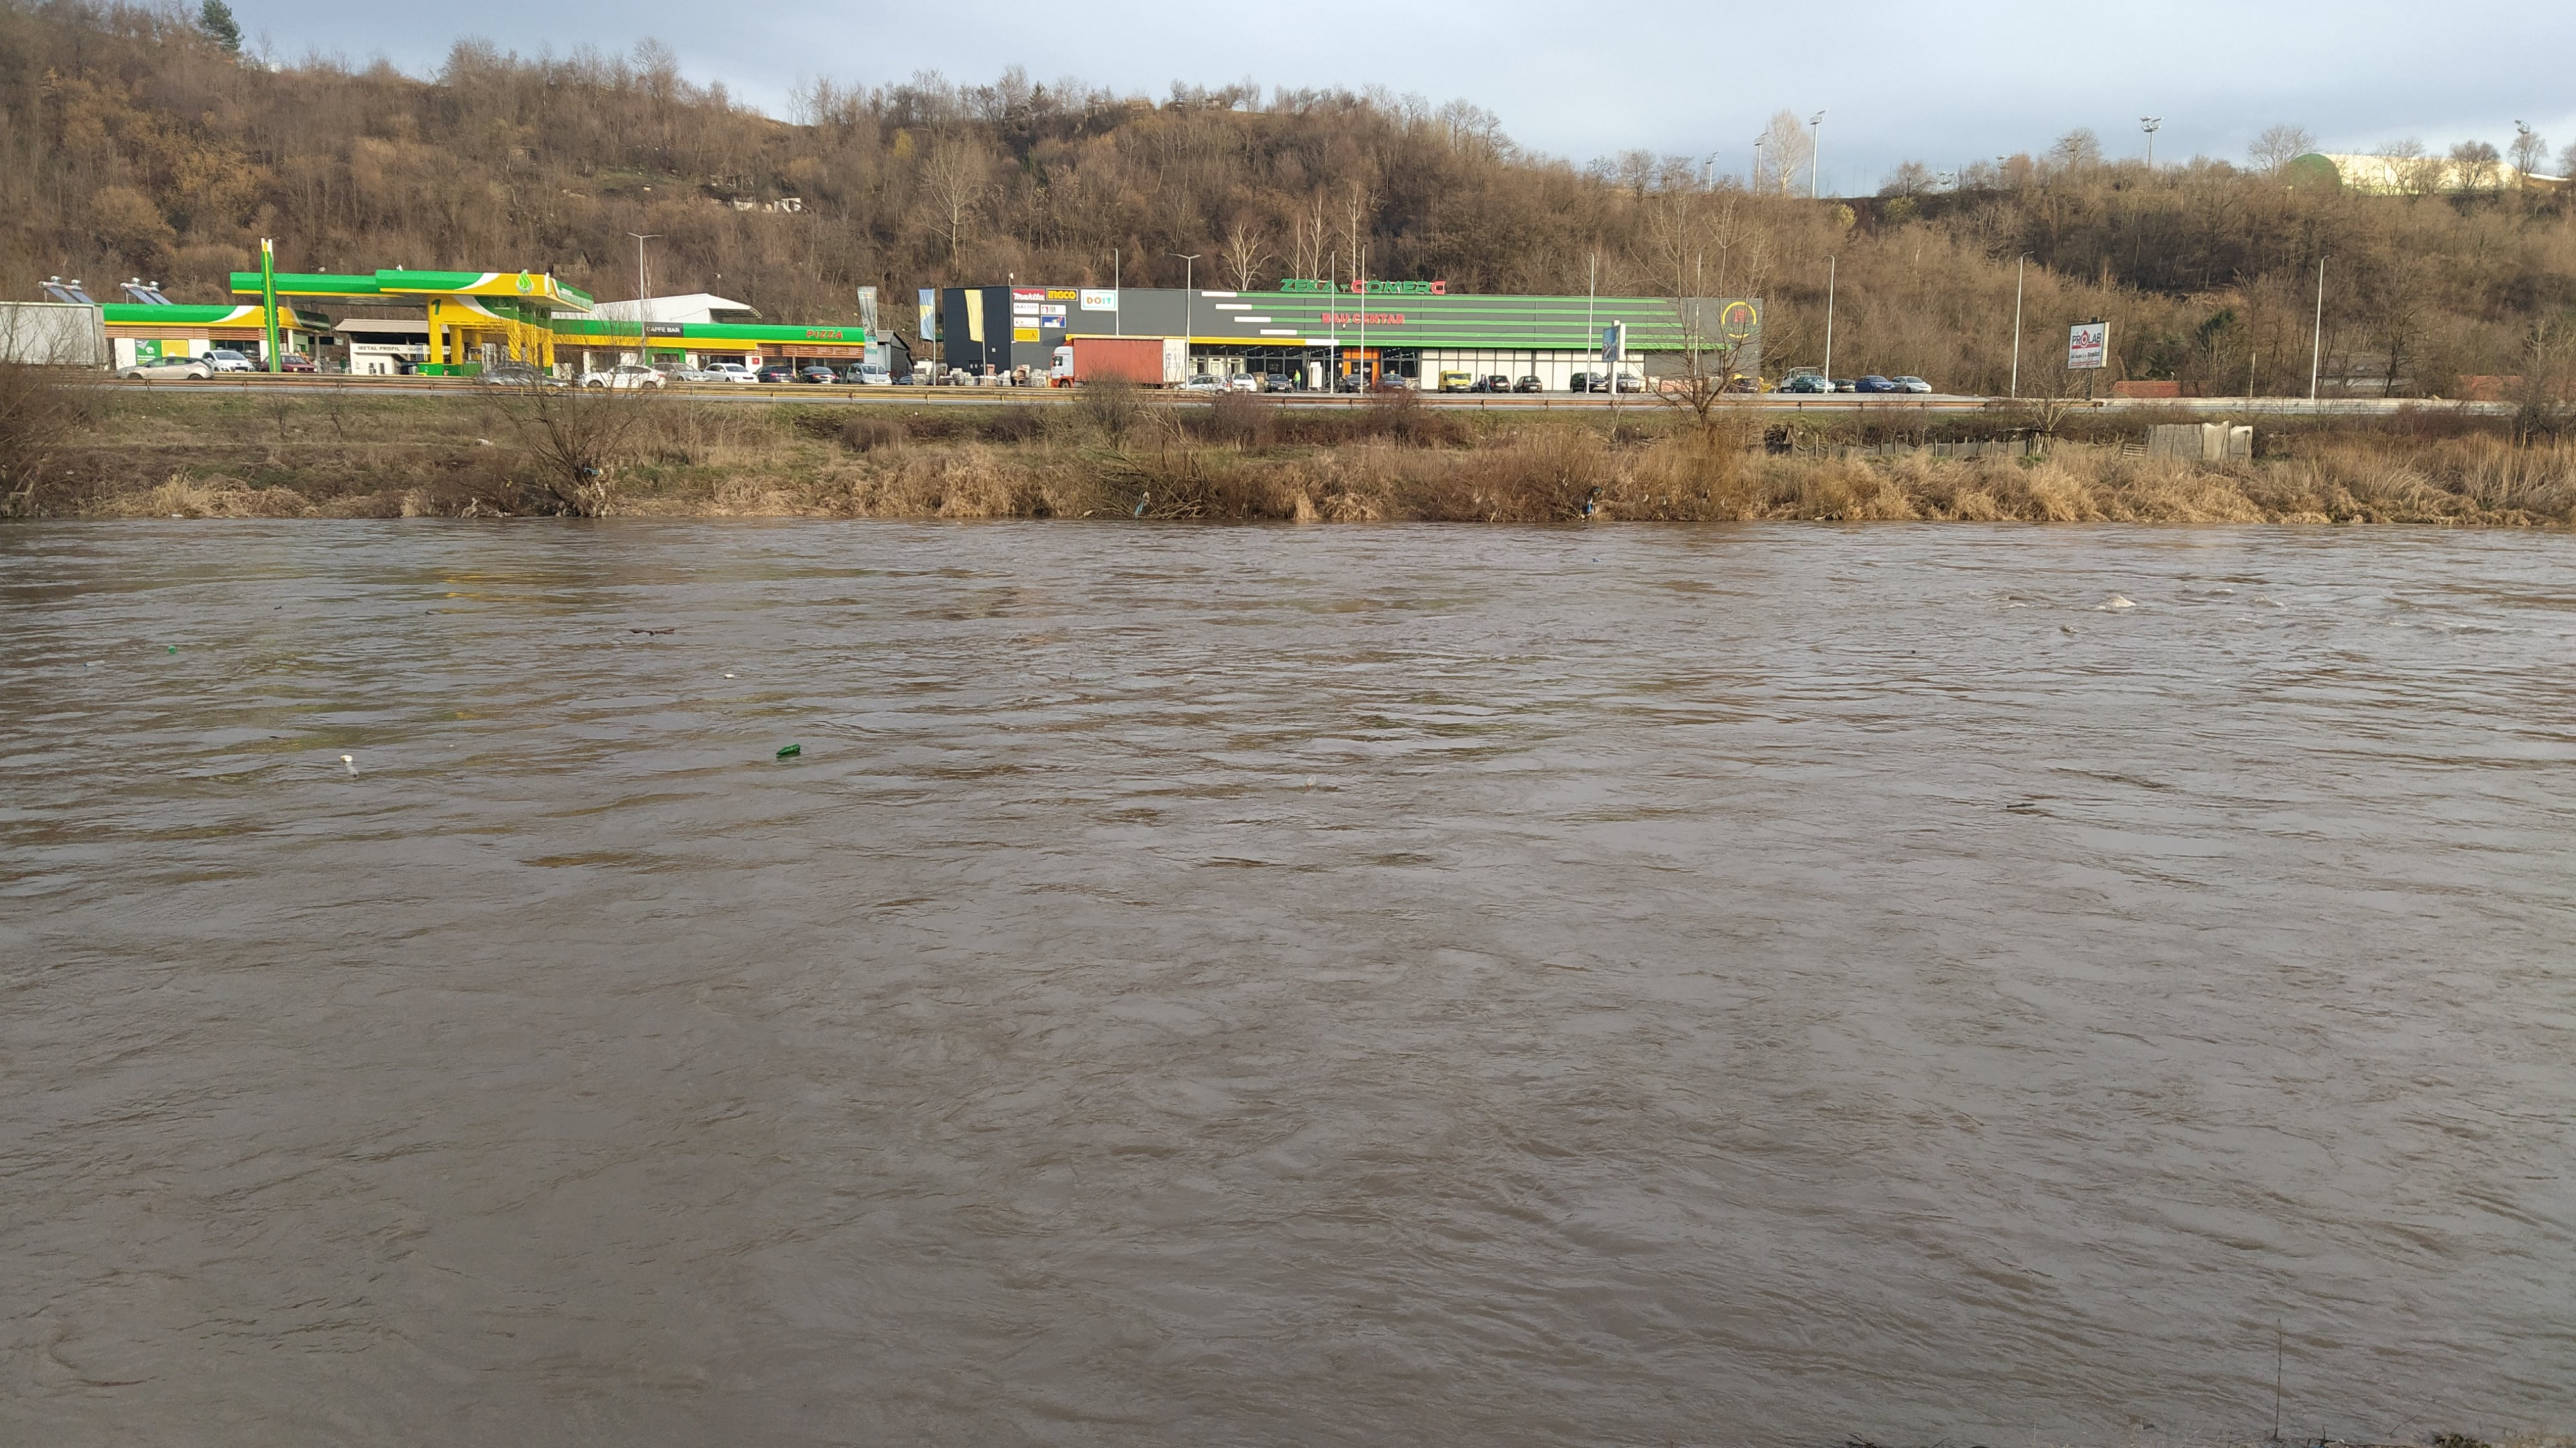Plastic Bottle: (777, 743, 800, 756), (1306, 774, 1316, 788), (347, 765, 357, 777), (83, 660, 104, 666), (340, 754, 352, 761), (1184, 676, 1194, 683), (168, 644, 175, 651), (725, 673, 734, 678), (172, 513, 184, 517), (1592, 556, 1598, 561)
